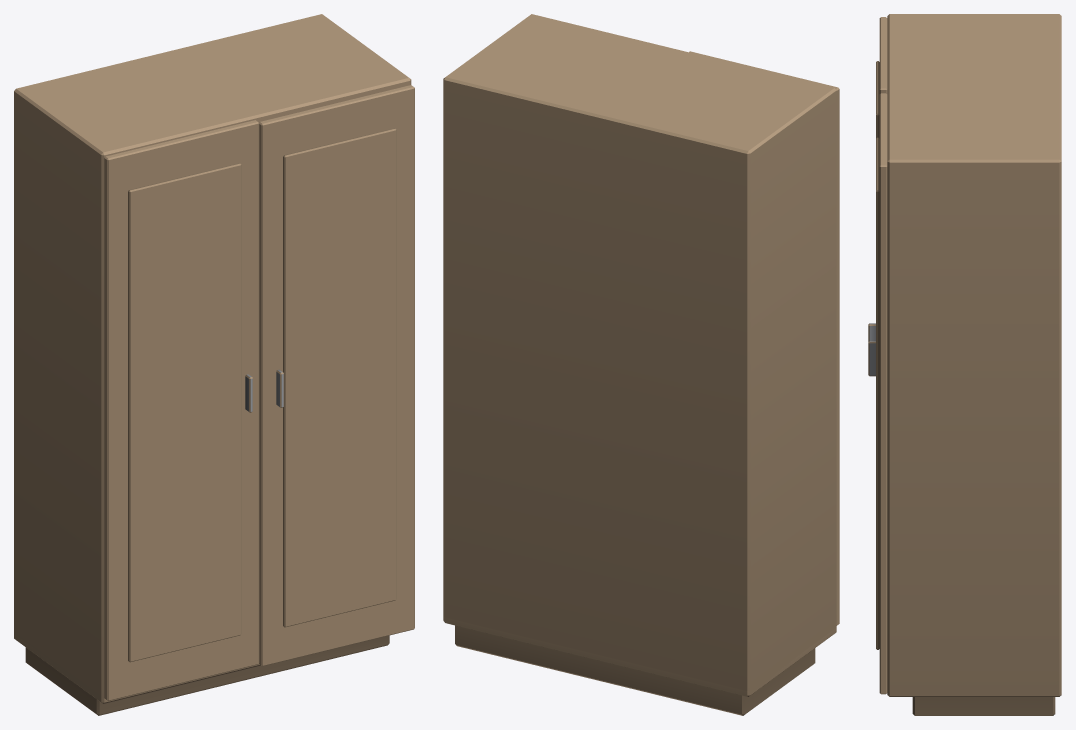
Rendered from wardrobe.glb.
3 views of the same model, side by side, from view 1: azimuth 30°, elevation 25°; view 2: azimuth 150°, elevation 25°; view 3: azimuth 270°, elevation 25° (orthographic). The views are drawn at different scales.
Parts seen in each view (by area): view 1: wardrobe_door2, wardrobe_lid, wardrobe; view 2: wardrobe, wardrobe_lid; view 3: wardrobe, wardrobe_door2, wardrobe_lid.
Boxes of the visible parts, bbox=[...] form: wardrobe_door2: bbox=[259, 85, 414, 666]; wardrobe_lid: bbox=[104, 120, 259, 700]; wardrobe: bbox=[14, 14, 411, 715]; wardrobe: bbox=[443, 14, 836, 715]; wardrobe_lid: bbox=[689, 51, 839, 625]; wardrobe: bbox=[887, 14, 1061, 715]; wardrobe_door2: bbox=[868, 93, 887, 694]; wardrobe_lid: bbox=[868, 17, 887, 341].
Bounding box in the file's own units: 1.1 × 1.95 × 0.61.
